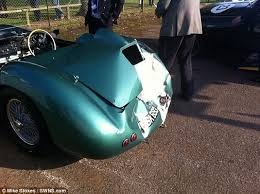Dent: (107, 39, 174, 144)
